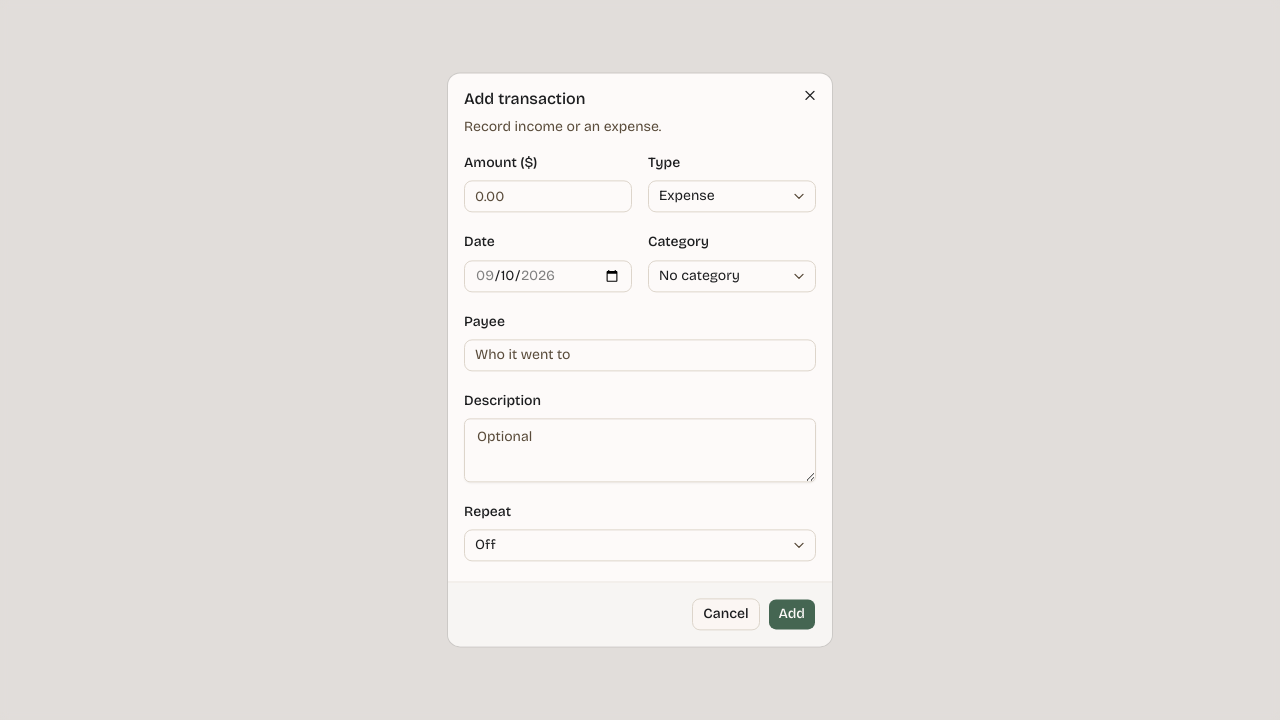
Test case: TransactionDialog › puts a server field error on the field that caused it
Type "5" into the number field labelled "Amount ($)" at (548, 197), box [464,181,632,213]
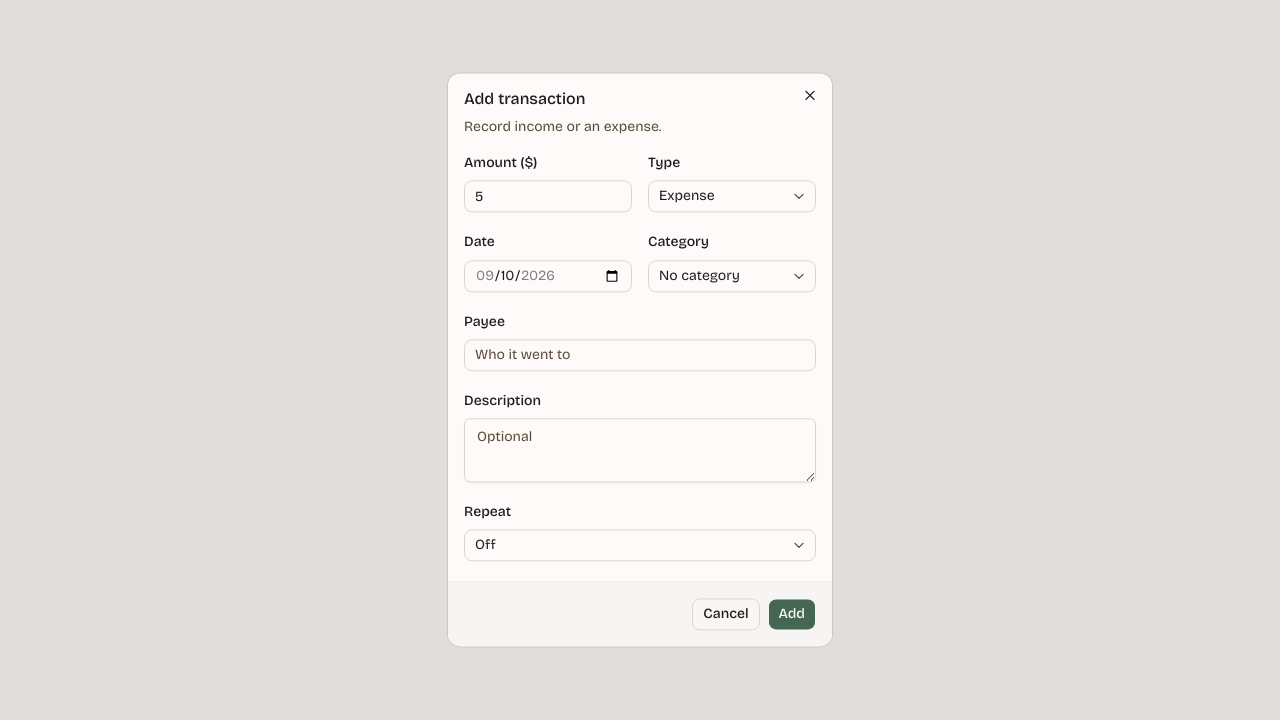
Click the button "Add" at (792, 615), box [768,599,816,631]
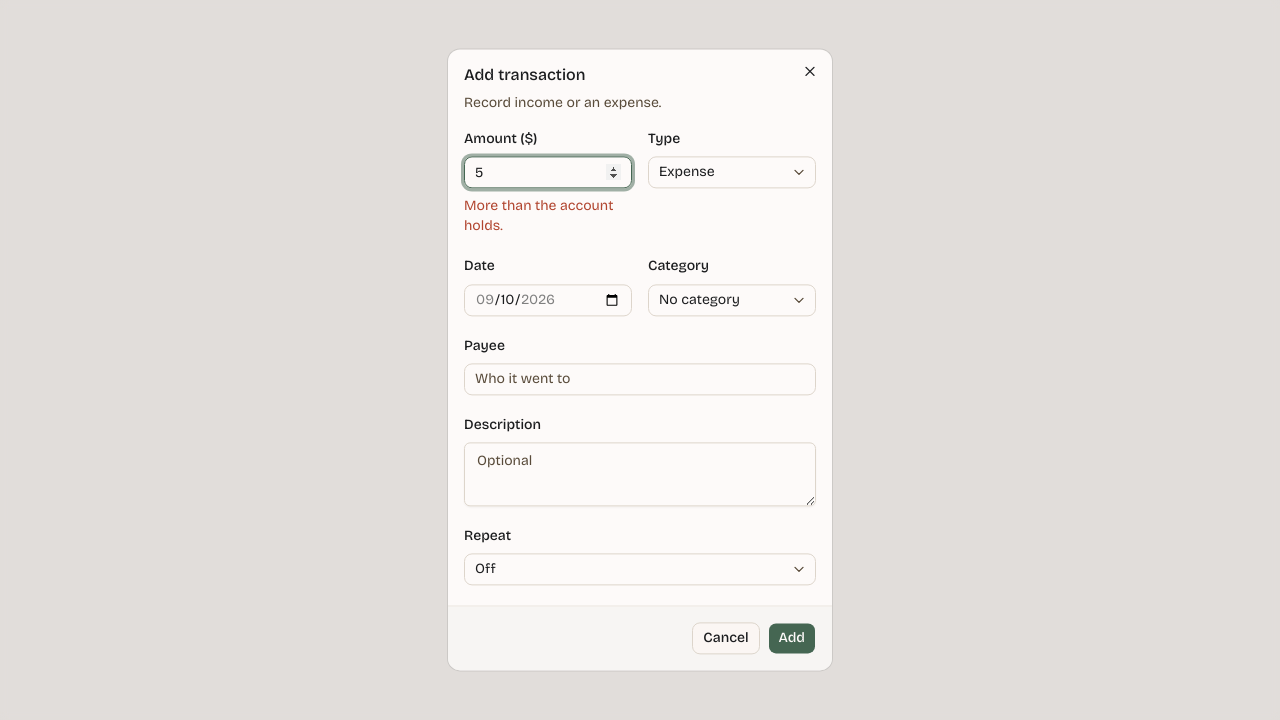
Check: the text "More than the account holds." is shown, box [464,197,632,237]
